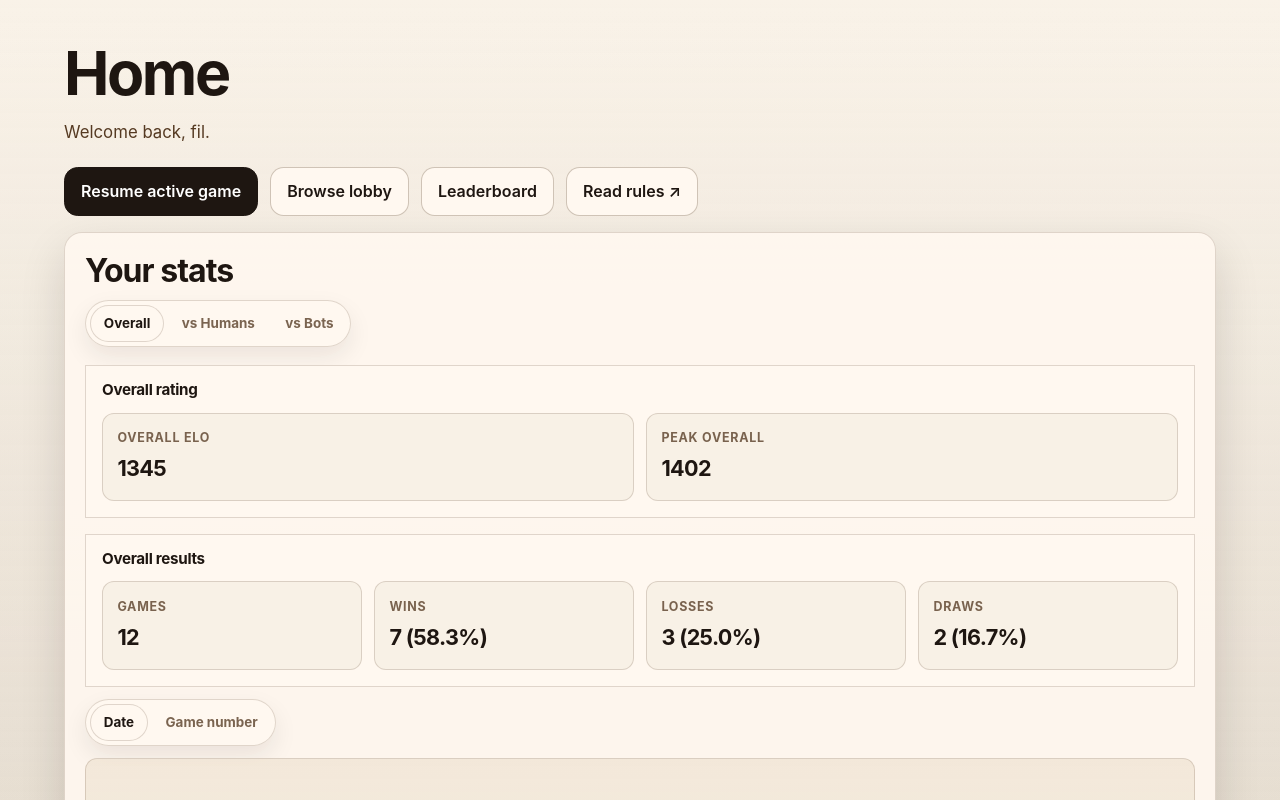
HomePage › shows_recent_games_and_resume_cta_for_active_game
Expected: the link "Resume active game" is shown, [64,166,258,216]
Expected: the heading "Overall rating" is shown, [102,380,198,399]
What coordinates should you click on to do the following:
click the tab "Game number"
I would click on:
 (212, 722)
Its box is [153,705,271,740].
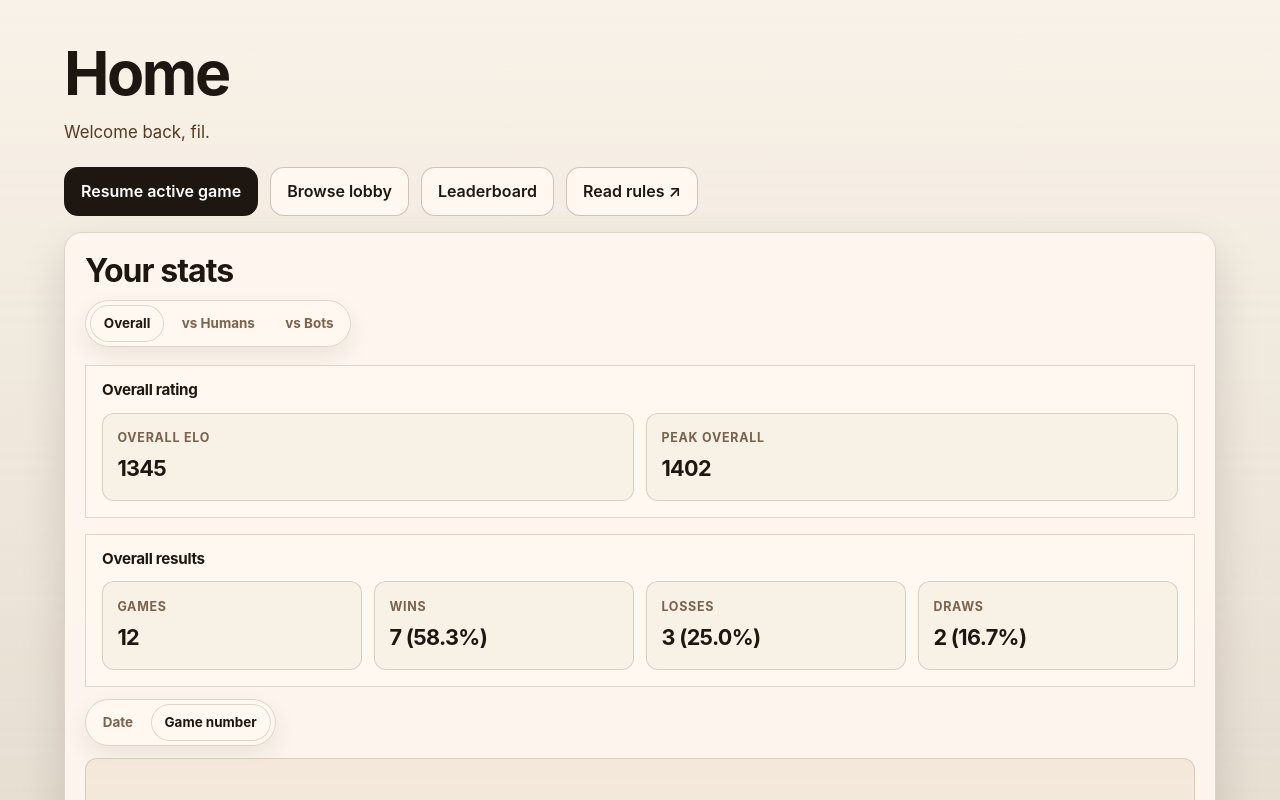
What coordinates should you click on to do the following:
click the tab "vs Humans"
I would click on:
 (218, 323)
Its box is [169,306,268,341].
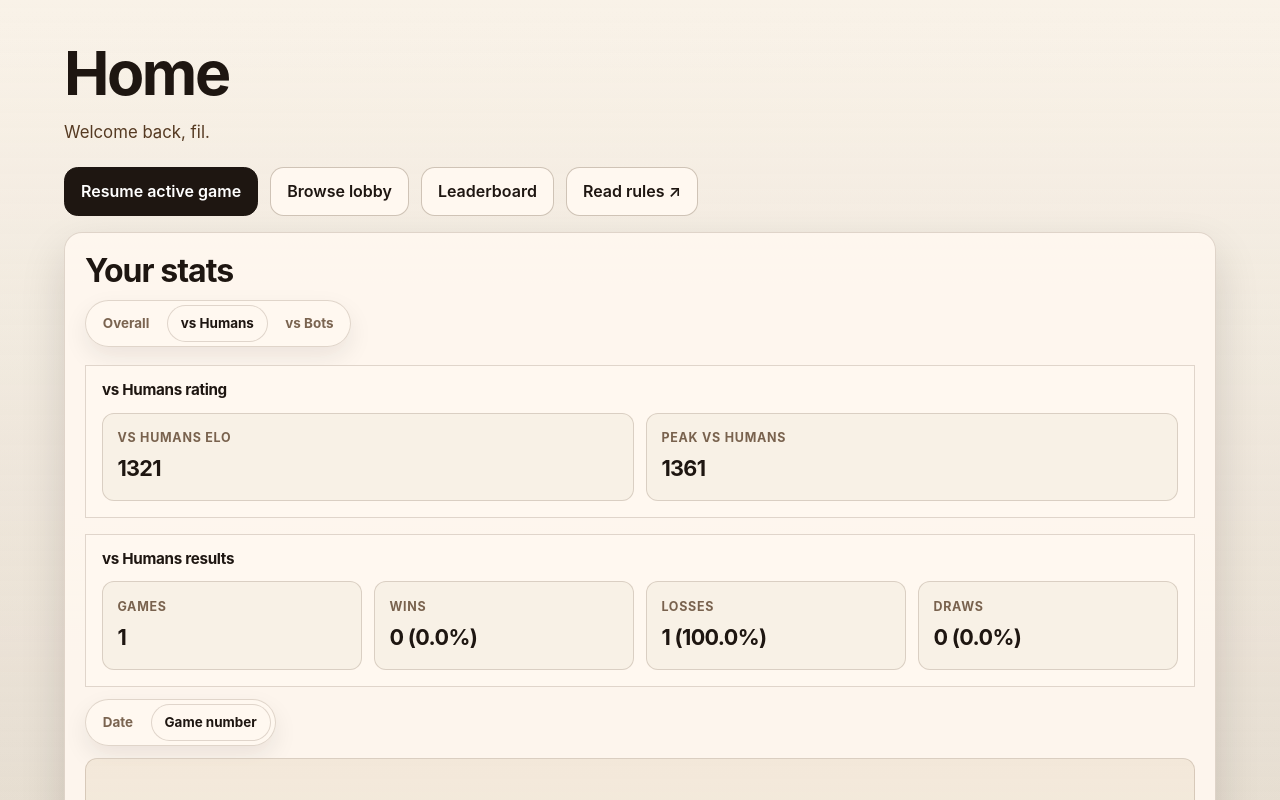
Expected: the heading "vs Humans rating" is shown, [102,380,227,399]
Expected: the text "1321" is shown, [117,455,161,481]
Expected: the heading "vs Humans results" is shown, [102,549,234,568]
